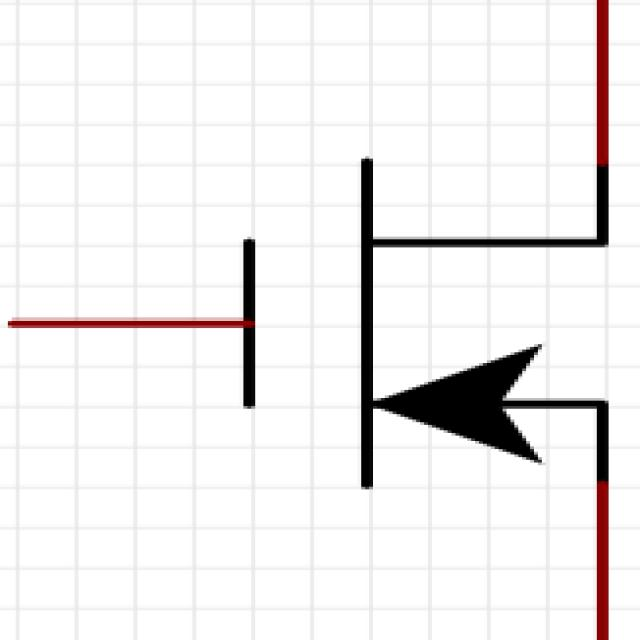pmos: (9, 41, 640, 640)
